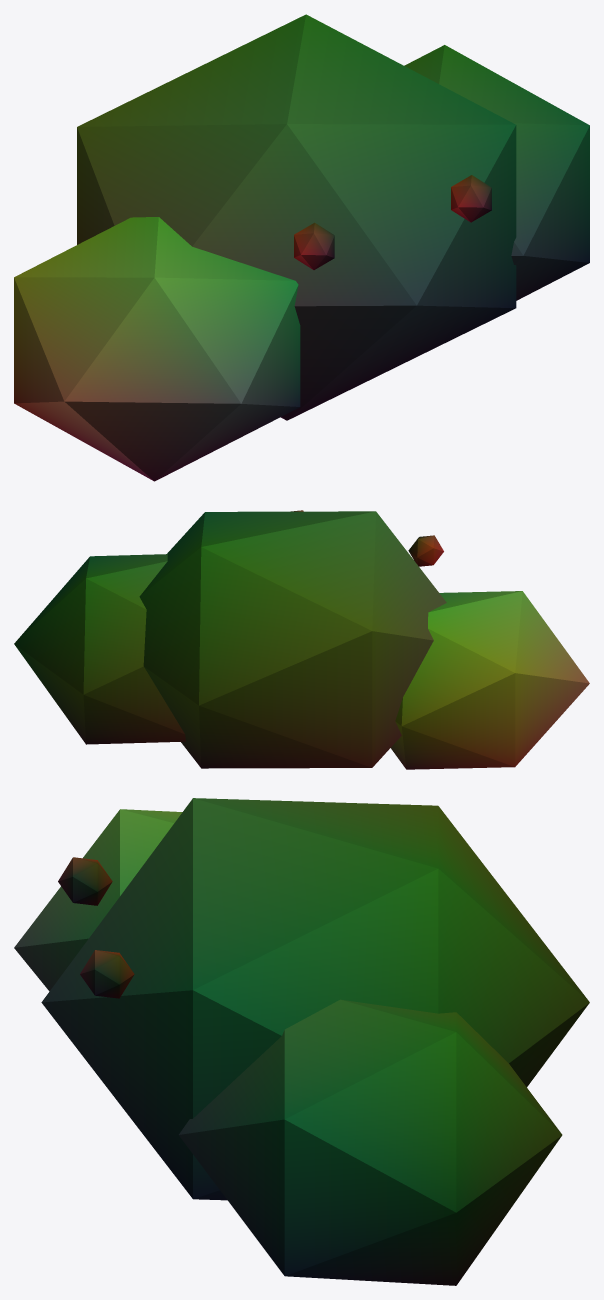
Rendered from Bush.fbx.
3 views of the same model, one above another, from view 1: azimuth 30°, elevation 25°; view 2: azimuth 150°, elevation 25°; view 3: azimuth 270°, elevation 25° (orthographic). The views are drawn at different scales.
Parts seen in each view (by area): view 1: Bush; view 2: Bush; view 3: Bush.
Boxes of the visible parts, left/top/right/bottom form: Bush: left=14, top=14, right=589, bottom=481; Bush: left=14, top=510, right=589, bottom=769; Bush: left=14, top=798, right=589, bottom=1285.
Size of the model in its own units: 1.5 by 0.6805 by 1.05.
